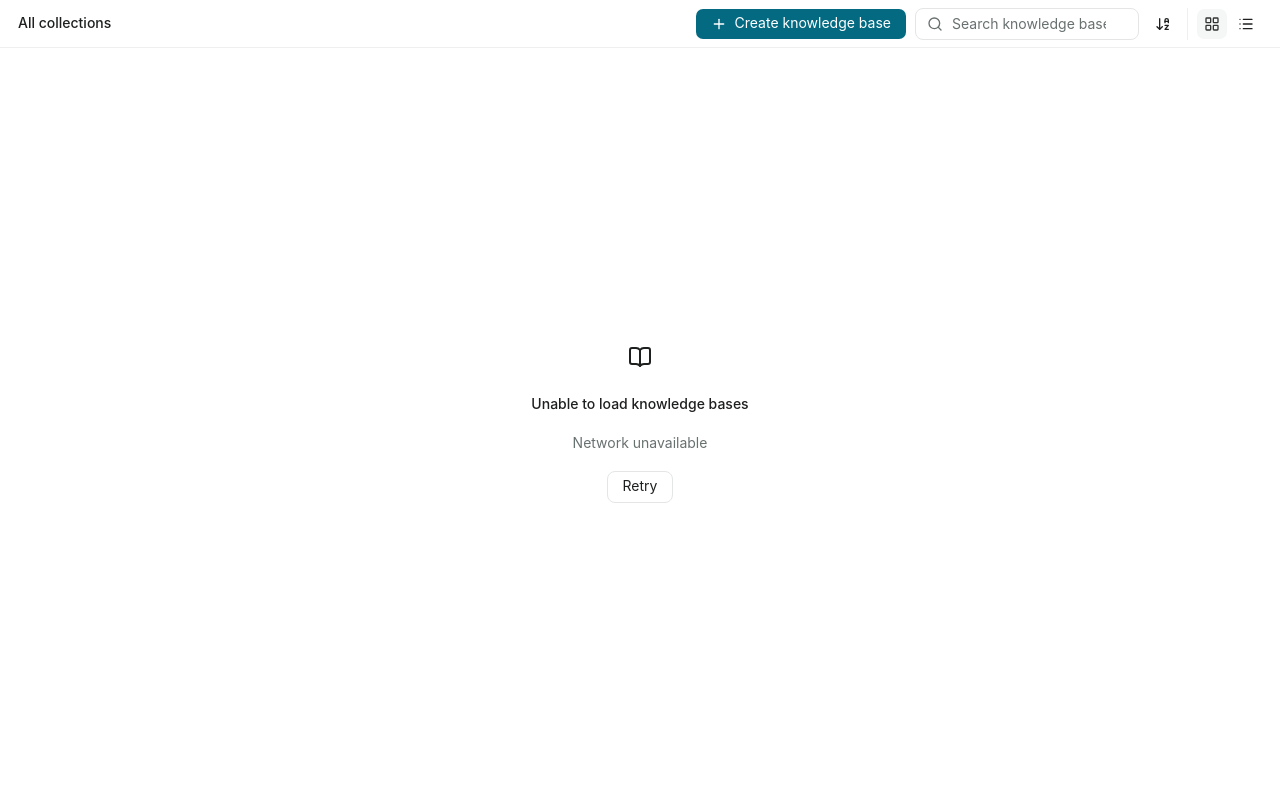
Test: offers retry after a failed collection request
Check: the message reads "Network unavailable", box [573,434,707,451]
Click the button "Retry". click: (640, 487)
box: [606,471,673,503]
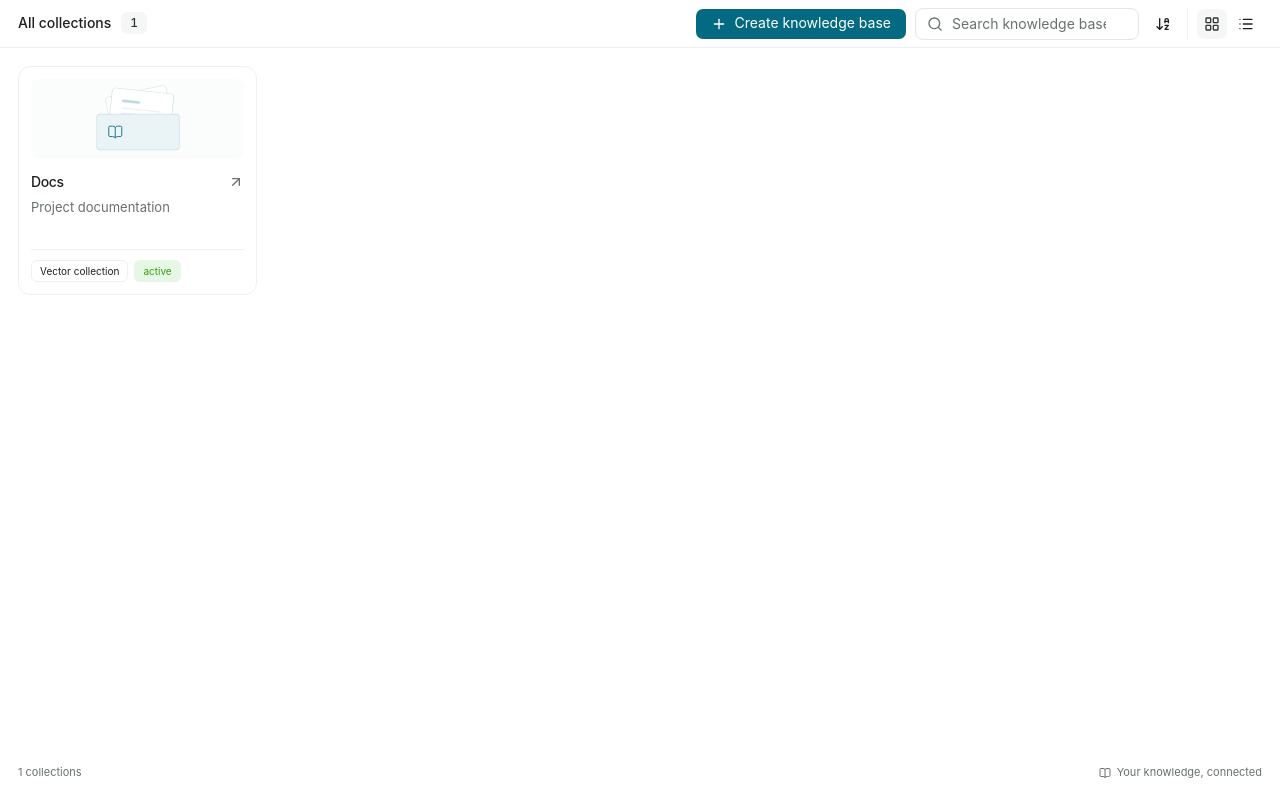
Check: the heading "Docs" is shown, box [31,171,64,193]
